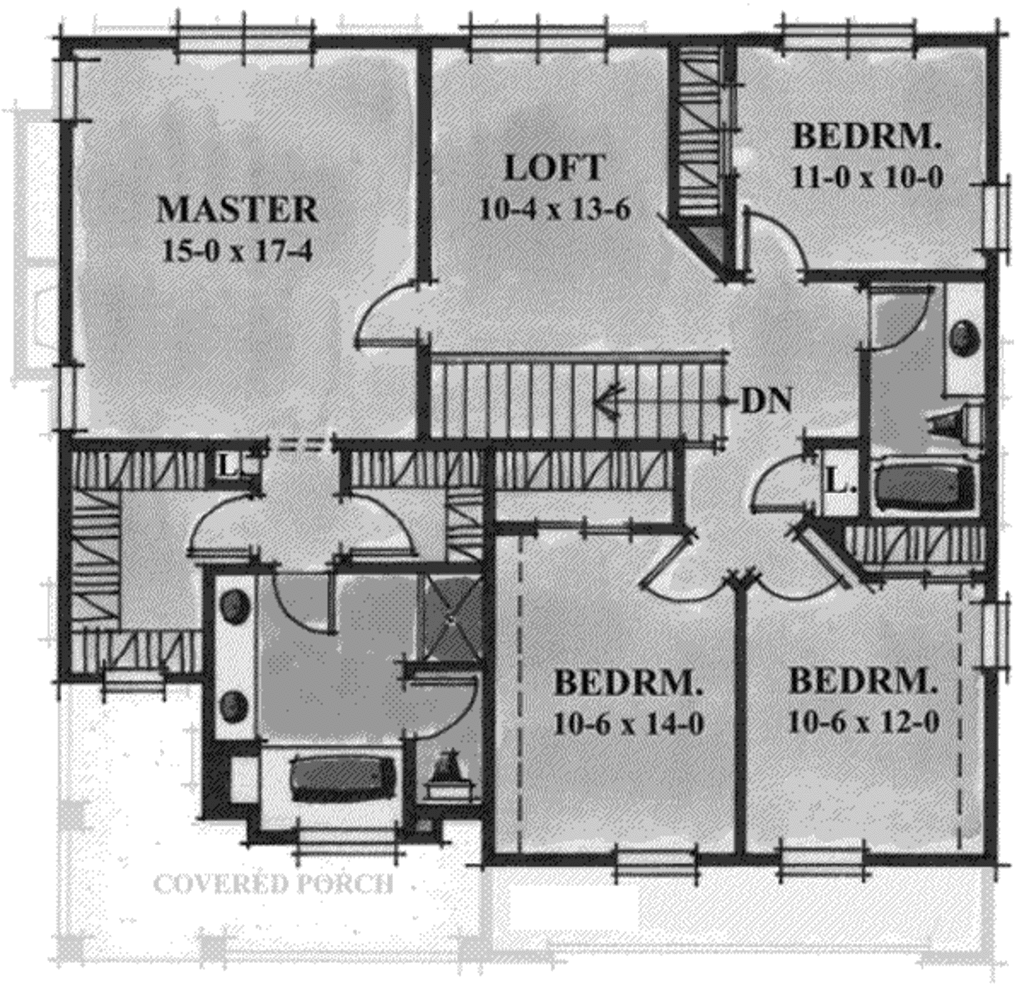door: (632, 532, 732, 611), (350, 283, 448, 359), (761, 532, 850, 614), (173, 493, 261, 566), (400, 671, 479, 751), (272, 571, 350, 642), (330, 495, 415, 557), (747, 454, 824, 521), (864, 283, 936, 353), (744, 205, 809, 275)
large_sink: (921, 395, 994, 453), (418, 750, 476, 805)
small_sink: (202, 572, 278, 738), (938, 275, 991, 398)
stairs: (426, 347, 748, 454)
tub: (264, 750, 408, 829), (875, 454, 987, 520)
window: (453, 8, 620, 71), (166, 17, 329, 74), (779, 17, 915, 60), (776, 833, 881, 880), (44, 359, 93, 430), (976, 175, 1015, 253), (47, 53, 91, 118), (976, 593, 1011, 669), (608, 848, 700, 875)
